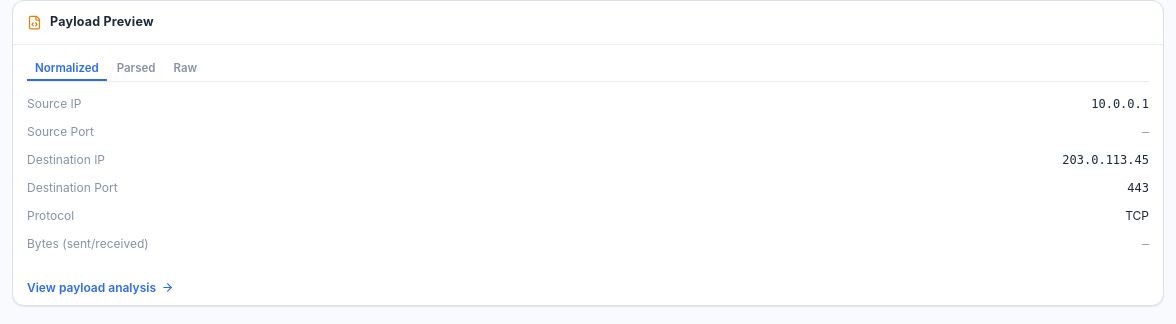
PayloadPreviewCard › wechselt zwischen Normalized und Raw und zeigt ehrlichen Leer-Raw
This screenshot has width=1176, height=324.
Expected: the text "Destination IP" is shown, [27, 151, 105, 169]
Expected: the text "203.0.113.45" is shown, [1062, 151, 1149, 169]
What coordinates should you click on to do the following:
click the button "Raw"
I would click on:
 (185, 69)
Its box is [166, 57, 205, 81].
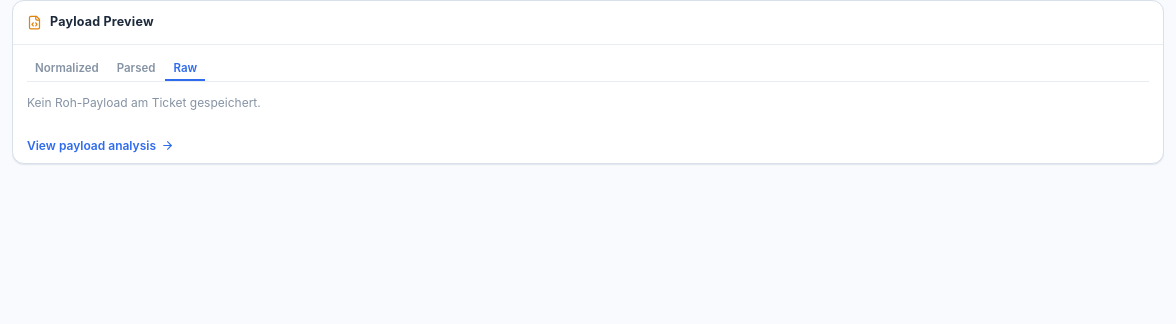
Expected: the text "Kein Roh-Payload am Ticket gespeichert." is shown, [27, 95, 261, 110]
